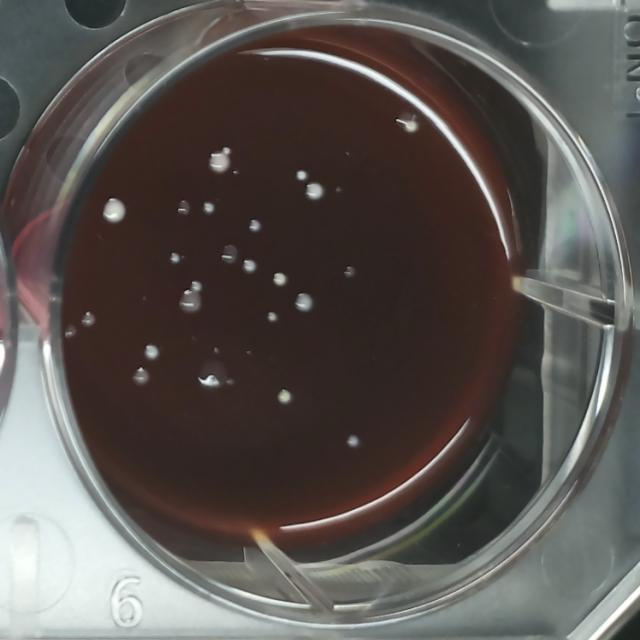Alteromonas: (219, 242, 240, 266), (175, 197, 192, 217)
Staphylococcus: (97, 194, 130, 229), (291, 290, 316, 316), (208, 150, 232, 176), (304, 180, 326, 205), (141, 341, 161, 363), (275, 387, 294, 408), (344, 432, 363, 452), (401, 117, 419, 135), (241, 257, 258, 275), (271, 270, 288, 288), (246, 218, 262, 235), (201, 200, 216, 216), (295, 168, 309, 184), (168, 250, 182, 266), (189, 279, 203, 294), (265, 310, 279, 325)
